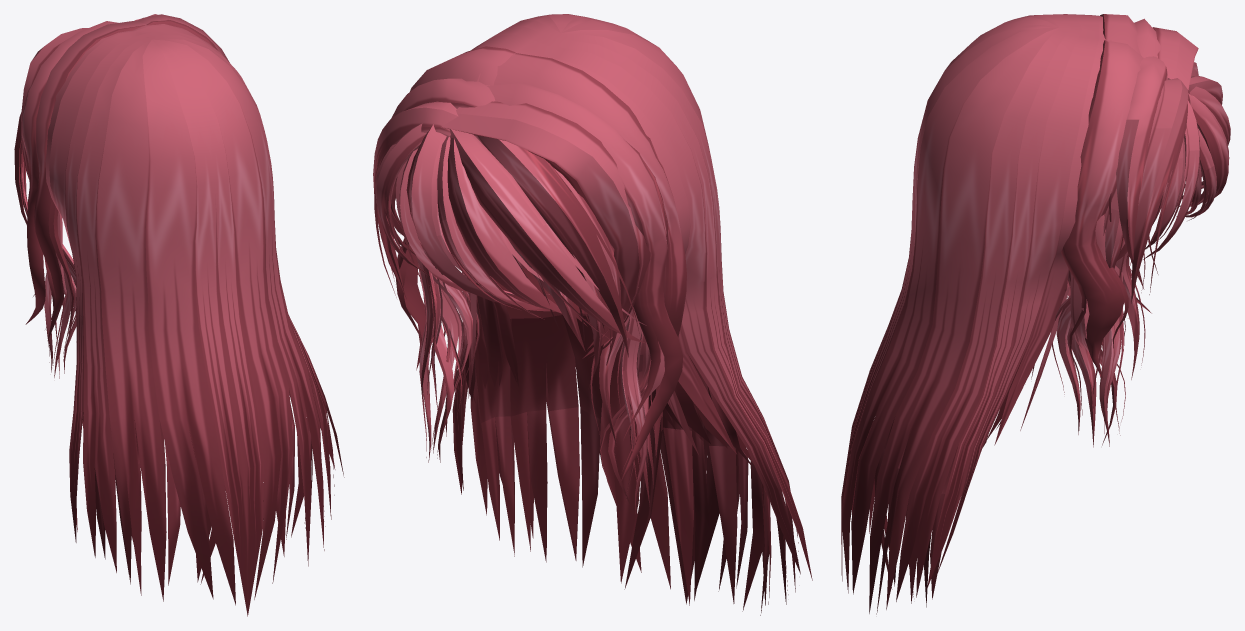
File: lufeng.FBX
3 views of the same model, side by side, from view 1: azimuth 30°, elevation 25°; view 2: azimuth 150°, elevation 25°; view 3: azimuth 270°, elevation 25° (orthographic). The views are drawn at different scales.
Parts seen in each view (by area): view 1: 47c7480.obj, 4790798.obj, 47d36a0.obj, 47ae130.obj, 4779940.obj, 479b128.obj; view 2: 47c7480.obj, 47d36a0.obj, 4779940.obj, 4790798.obj, 47ae130.obj, 479b128.obj, 47db220.obj; view 3: 47c7480.obj, 479b128.obj, 47ae130.obj, 4779940.obj, 4790798.obj, 47d36a0.obj.
Part boxes in pixels (left/top/right/bottom): 47c7480.obj: left=45, top=23, right=344, bottom=616; 4790798.obj: left=21, top=20, right=145, bottom=340; 47d36a0.obj: left=94, top=385, right=312, bottom=585; 47ae130.obj: left=44, top=211, right=76, bottom=378; 4779940.obj: left=14, top=112, right=29, bottom=224; 479b128.obj: left=135, top=14, right=229, bottom=62; 47c7480.obj: left=452, top=14, right=812, bottom=605; 47d36a0.obj: left=475, top=268, right=771, bottom=615; 4779940.obj: left=396, top=124, right=646, bottom=388; 4790798.obj: left=441, top=53, right=686, bottom=485; 47ae130.obj: left=416, top=239, right=664, bottom=513; 479b128.obj: left=373, top=46, right=515, bottom=370; 47db220.obj: left=465, top=283, right=755, bottom=470; 47c7480.obj: left=841, top=14, right=1111, bottom=614; 479b128.obj: left=1061, top=40, right=1200, bottom=379; 47ae130.obj: left=1052, top=190, right=1145, bottom=447; 4779940.obj: left=1129, top=62, right=1230, bottom=266; 4790798.obj: left=1067, top=14, right=1198, bottom=318; 47d36a0.obj: left=874, top=419, right=957, bottom=607.
Bounding box in the file's own units: 3.26 × 5.9 × 3.62.
Materials: 7 (7 with a texture image).
